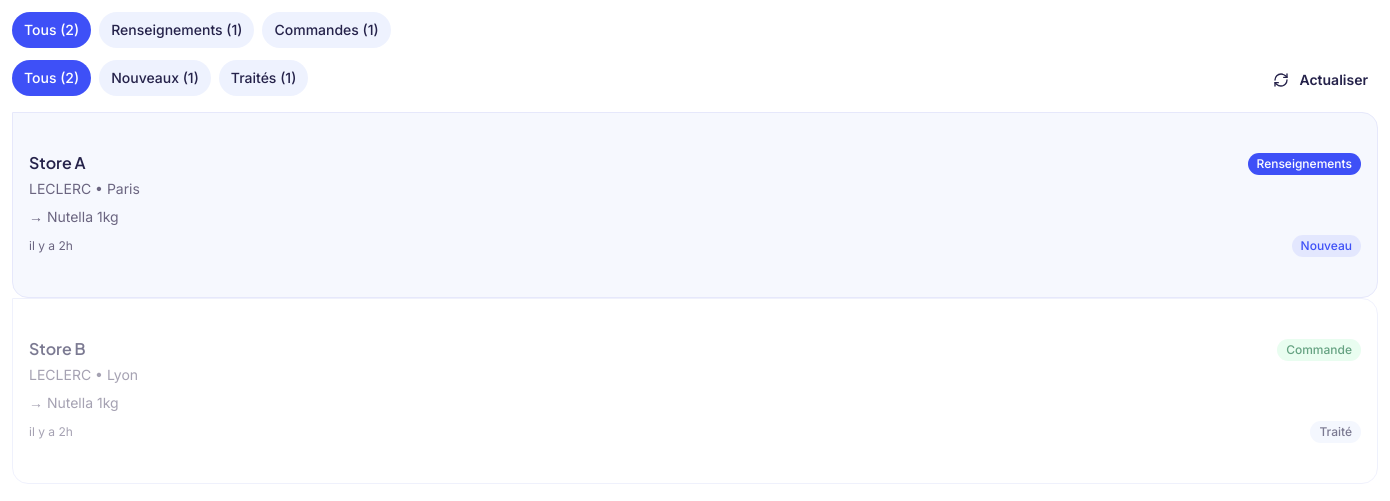
Test case: SupplierRequestList › resets all filters when both type and status are active
Activate both filters — only ORDER + PENDING (no match)
Click the radio button "Commandes (1)": click(327, 30) [262,12,391,48]
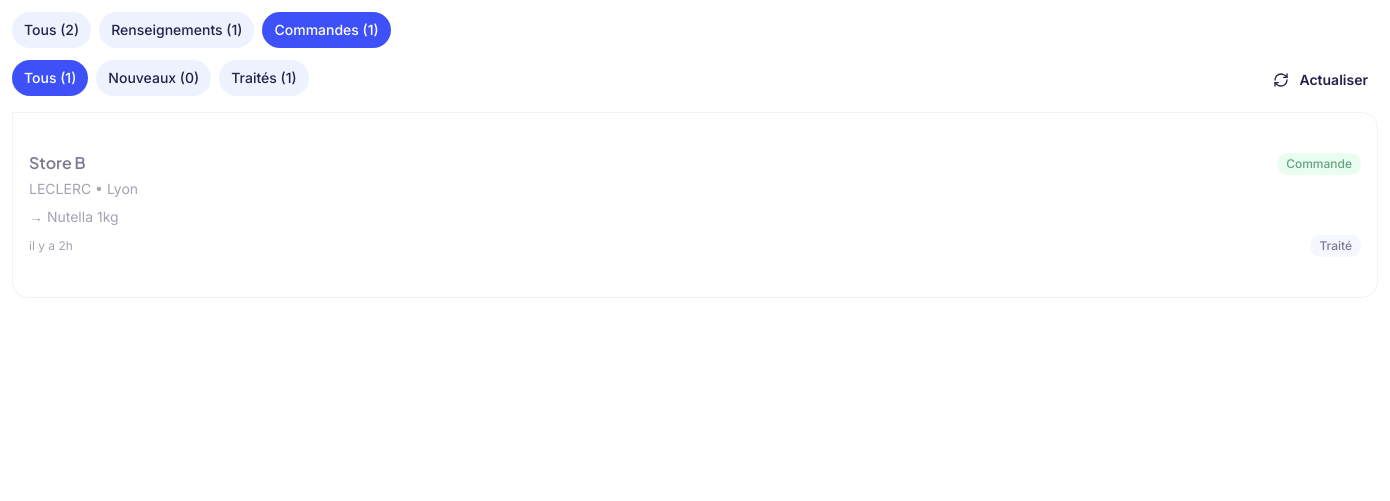
Click the radio button "Nouveaux (0)": click(154, 78) [96,60,211,96]
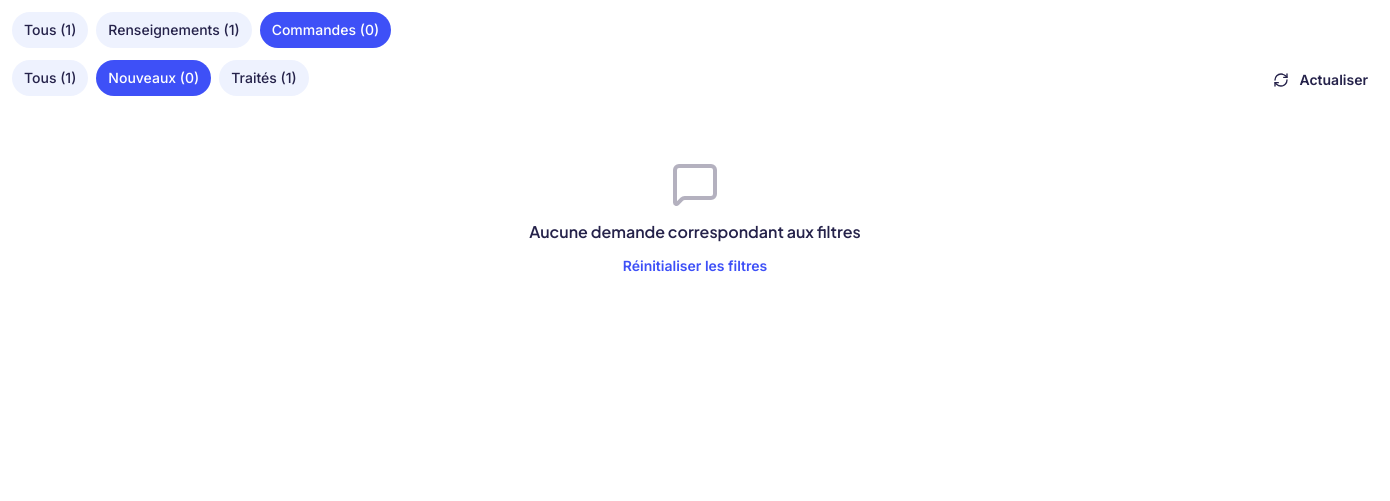
Result: the text "Aucune demande correspondant aux filtres" is shown at [529,220,861,244]
Reset all
Click the button "Réinitialiser les filtres": click(695, 266) [607,248,783,284]
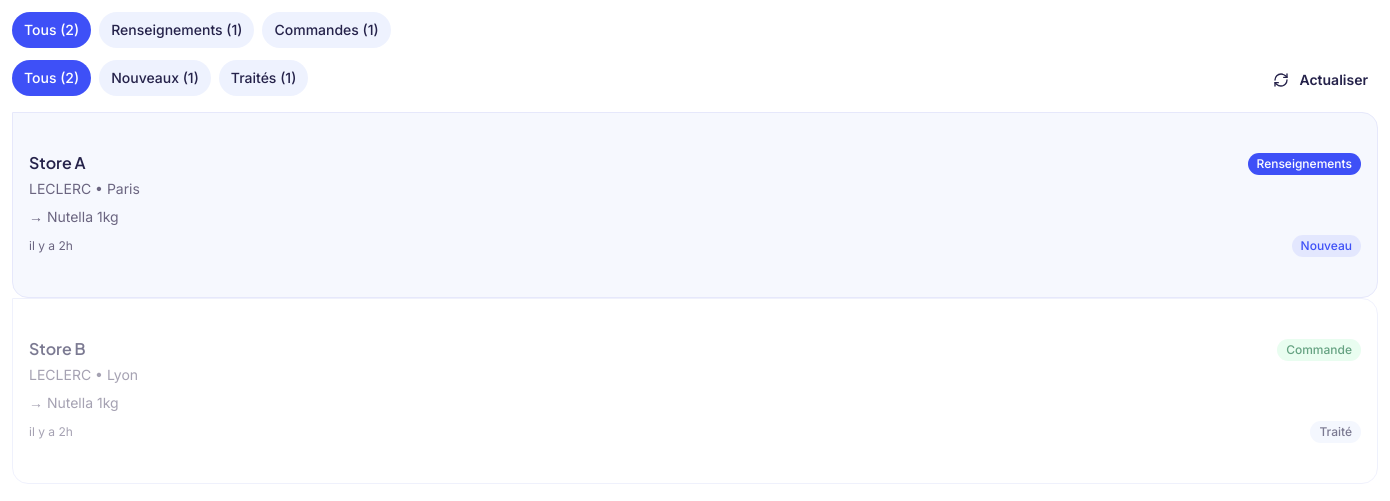
Result: the heading "Store A" is shown at [29,153,86,173]
Result: the heading "Store B" is shown at [29,339,86,359]
